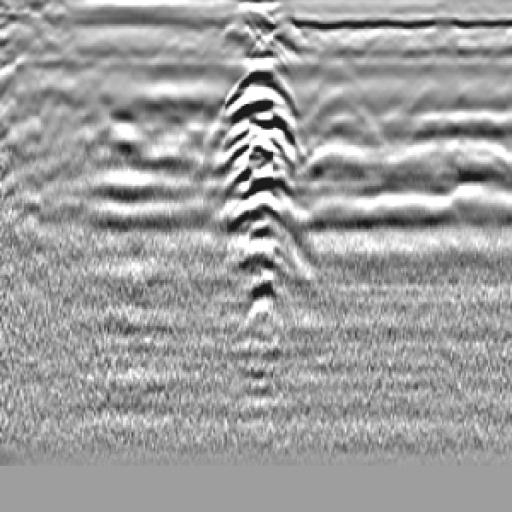metalic: (216, 50, 312, 341)
